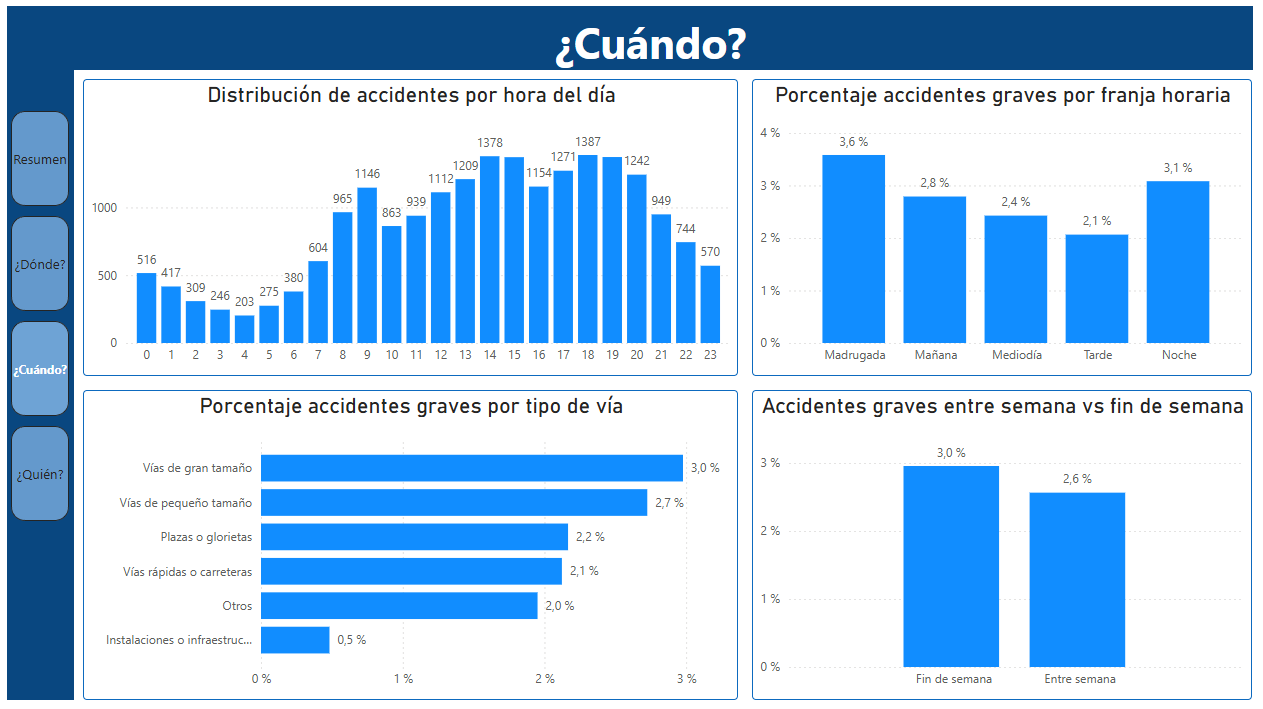

The page's visual inventory and layout, read from the dashboard file:
{"tool":"powerbi","page":{"name":"¿Cuándo?","canvas":[1280,720],"ordinal":2},"visuals":[{"type":"shape","box":[16,13,67,694],"z":0},{"type":"shape","box":[82.7,12.6,1178.8,64.2],"z":1000},{"type":"clusteredColumnChart","title":"Distribución de accidentes por hora del día","fields":{"Category":["Accidentes.hora_numero"],"Y":["_Medidas.Total accidentes"]},"box":[92,85.7,655.2,297.8],"z":3000},{"type":"clusteredColumnChart","title":"Porcentaje accidentes graves por franja horaria","fields":{"Category":["Accidentes.franja_horaria"],"Y":["_Medidas.Porcentaje accidentes graves"]},"box":[760.7,85.7,500.5,297.8],"z":4000},{"type":"clusteredBarChart","title":"Porcentaje accidentes graves por tipo de vía","fields":{"Category":["Accidentes.tipo_via"],"Y":["_Medidas.Porcentaje accidentes graves"]},"box":[92,397.1,655.2,310.3],"z":5000},{"type":"clusteredColumnChart","title":"Accidentes graves entre semana vs fin de semana","fields":{"Category":["Calendario.EsFinDeSemana"],"Y":["_Medidas.Porcentaje accidentes graves"]},"box":[760.7,397.1,500.5,310.3],"z":6000},{"type":"textbox","box":[509.9,15.1,299,70.9],"z":6002},{"type":"pageNavigator","title":"Visión general","box":[20,118,58,412],"z":6003}]}

Visuals, with their boxes on the page's 1280x720 design canvas (x1, y1, x2, y2). These are canvas units, not pixel positions in the 1263x709 screenshot, which may show the page scaled, cropped or inside an application window:
shape: rect(16, 13, 83, 707)
shape: rect(83, 13, 1262, 77)
"Distribución de accidentes por hora del día" clusteredColumnChart: rect(92, 86, 747, 384)
"Porcentaje accidentes graves por franja horaria" clusteredColumnChart: rect(761, 86, 1261, 384)
"Porcentaje accidentes graves por tipo de vía" clusteredBarChart: rect(92, 397, 747, 707)
"Accidentes graves entre semana vs fin de semana" clusteredColumnChart: rect(761, 397, 1261, 707)
textbox: rect(510, 15, 809, 86)
"Visión general" pageNavigator: rect(20, 118, 78, 530)
